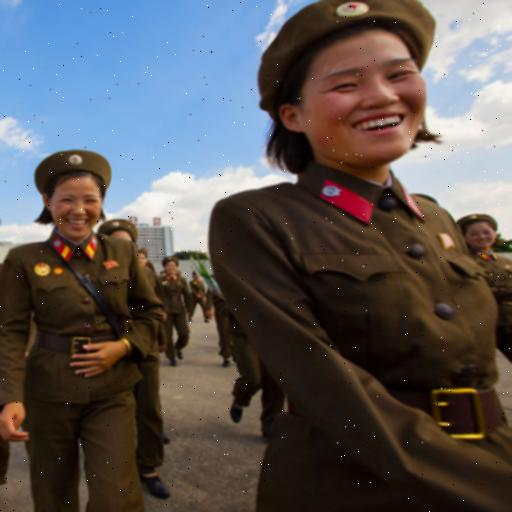north army: (190, 1, 512, 508), (0, 123, 167, 512)
